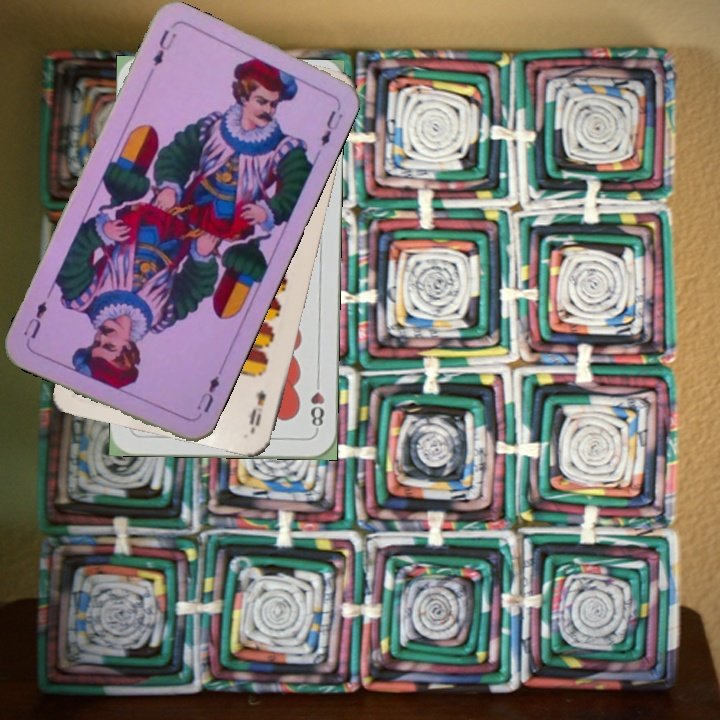E9: (245, 385, 268, 433)
EU: (192, 365, 226, 416), (149, 25, 179, 69)
H8: (306, 374, 327, 433)
